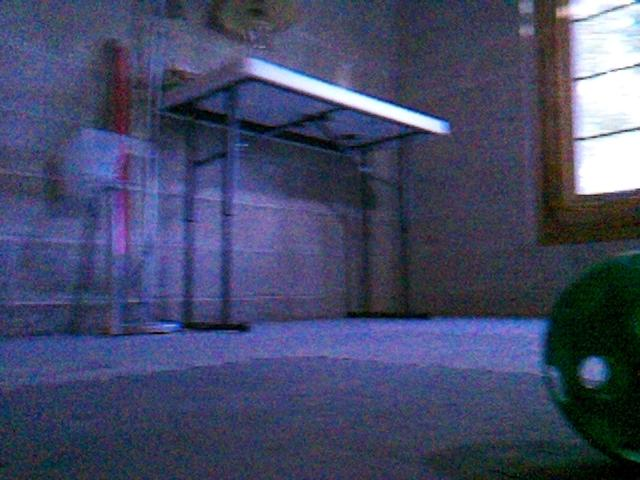Green: (546, 248, 640, 470)
